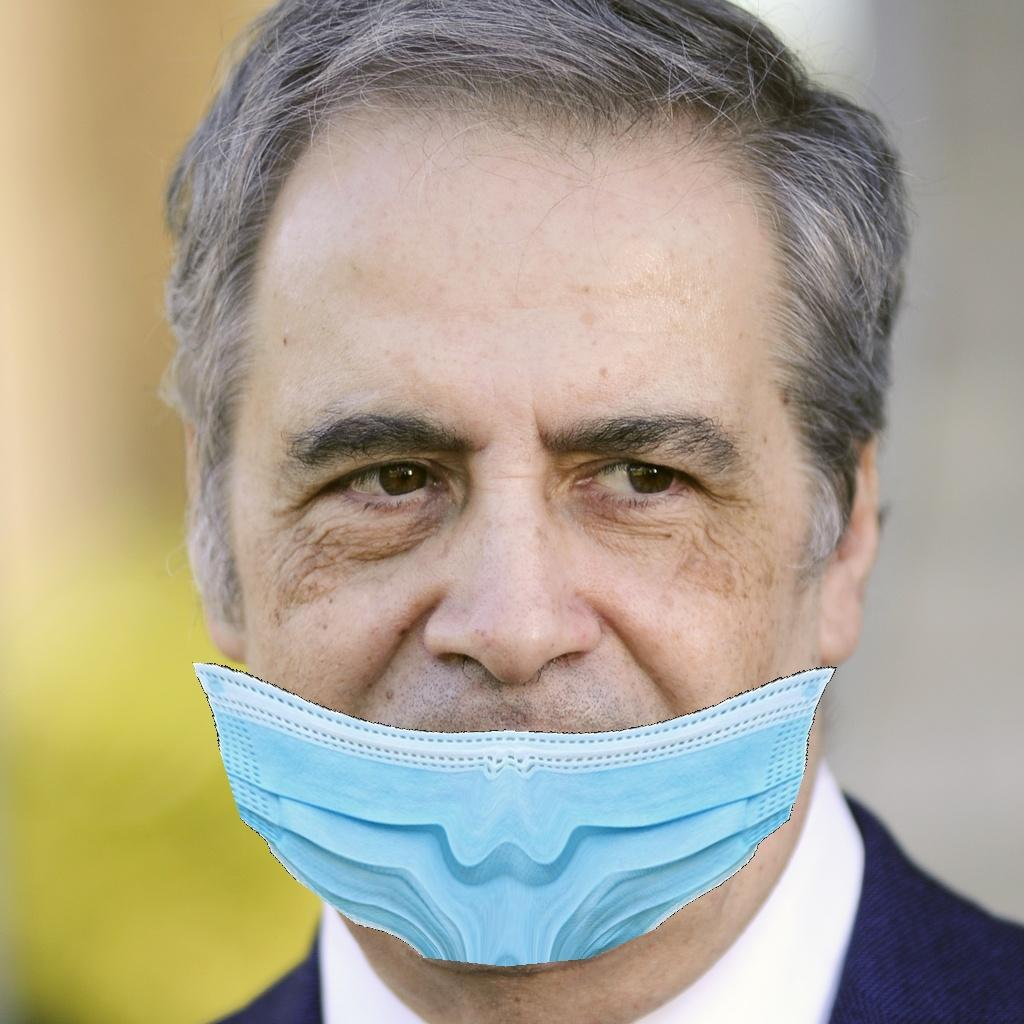Máscara Incorreta: (215, 290, 813, 939)
